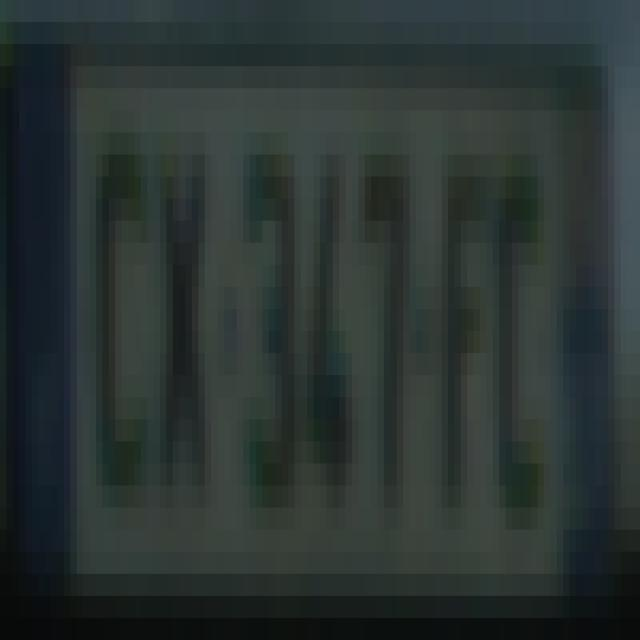EU: (5, 21, 624, 582)
France: (7, 41, 77, 584)
